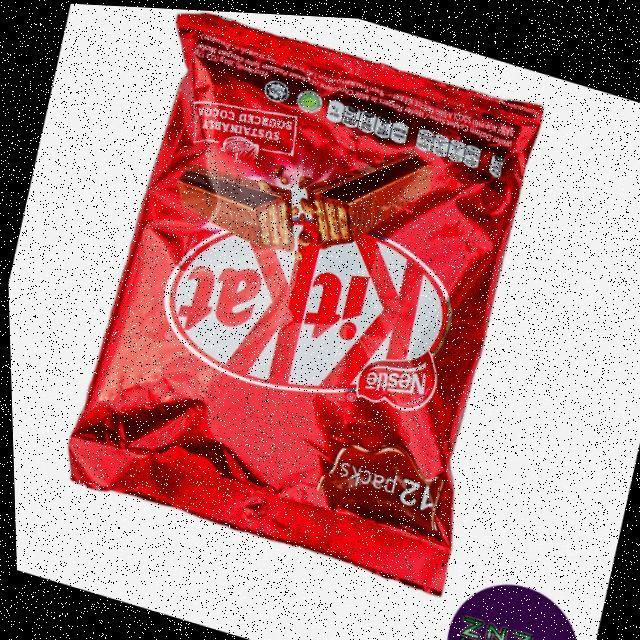kitkat_chocolate: (170, 27, 482, 573)
